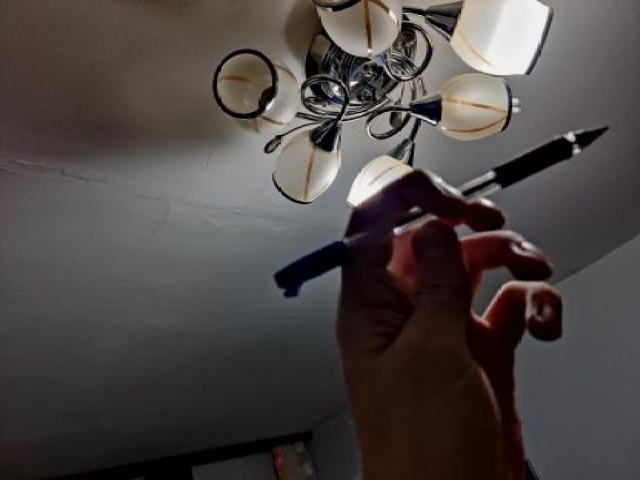PEN: (264, 98, 620, 305)
